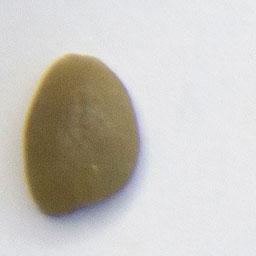premium: (18, 49, 143, 219)
